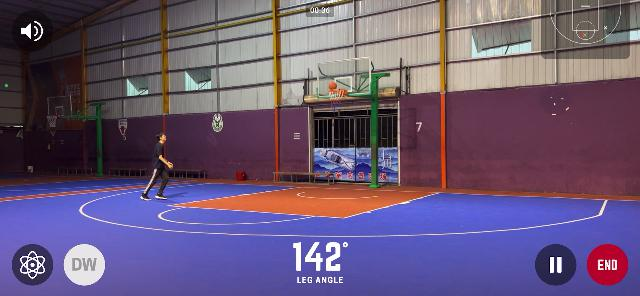ball: (328, 81, 338, 90)
basket: (328, 89, 346, 105)
